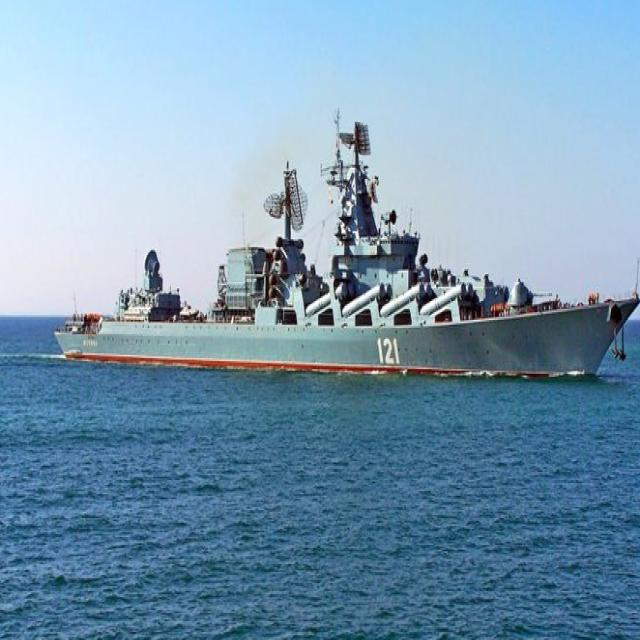navalvessels: (53, 89, 640, 388)
